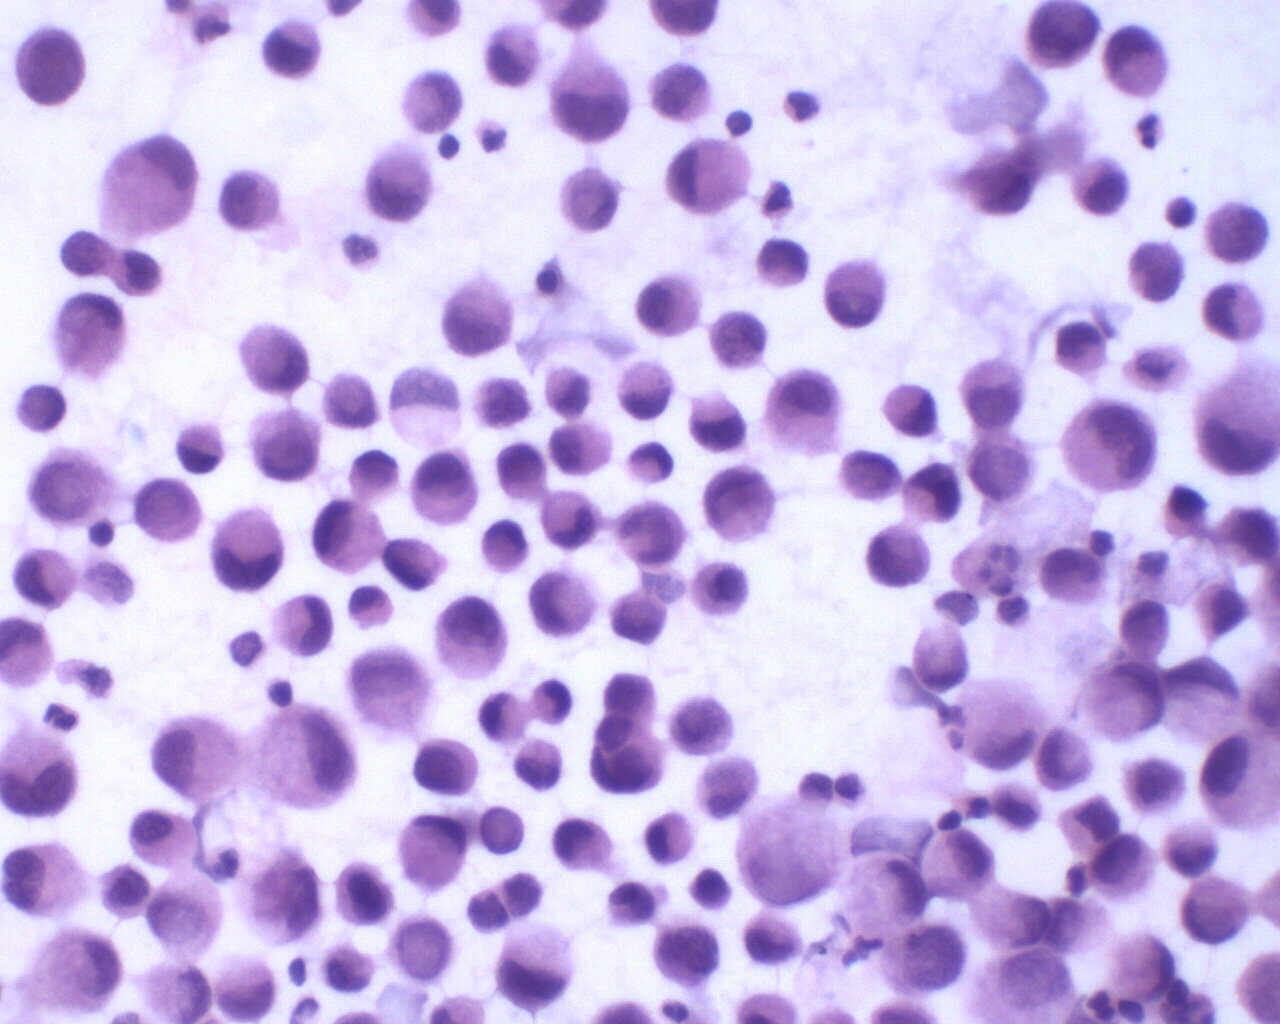ab: (27, 441, 122, 530), (14, 22, 97, 108), (877, 921, 967, 998), (245, 403, 326, 486), (650, 908, 725, 993), (126, 475, 209, 549), (963, 428, 1039, 504), (859, 520, 936, 594), (1022, 1, 1101, 72), (330, 853, 401, 929), (1200, 194, 1274, 266), (385, 915, 457, 985), (408, 732, 480, 801), (1122, 744, 1187, 818), (644, 62, 715, 129), (556, 165, 623, 234), (670, 694, 740, 760), (1035, 726, 1097, 792)
histo: (90, 130, 199, 243), (952, 671, 1048, 773), (659, 133, 757, 220), (391, 810, 475, 889)
meso: (429, 588, 520, 691), (309, 499, 387, 578), (628, 269, 706, 341), (129, 801, 202, 875), (689, 556, 750, 618)
neutro: (1128, 111, 1170, 152)
